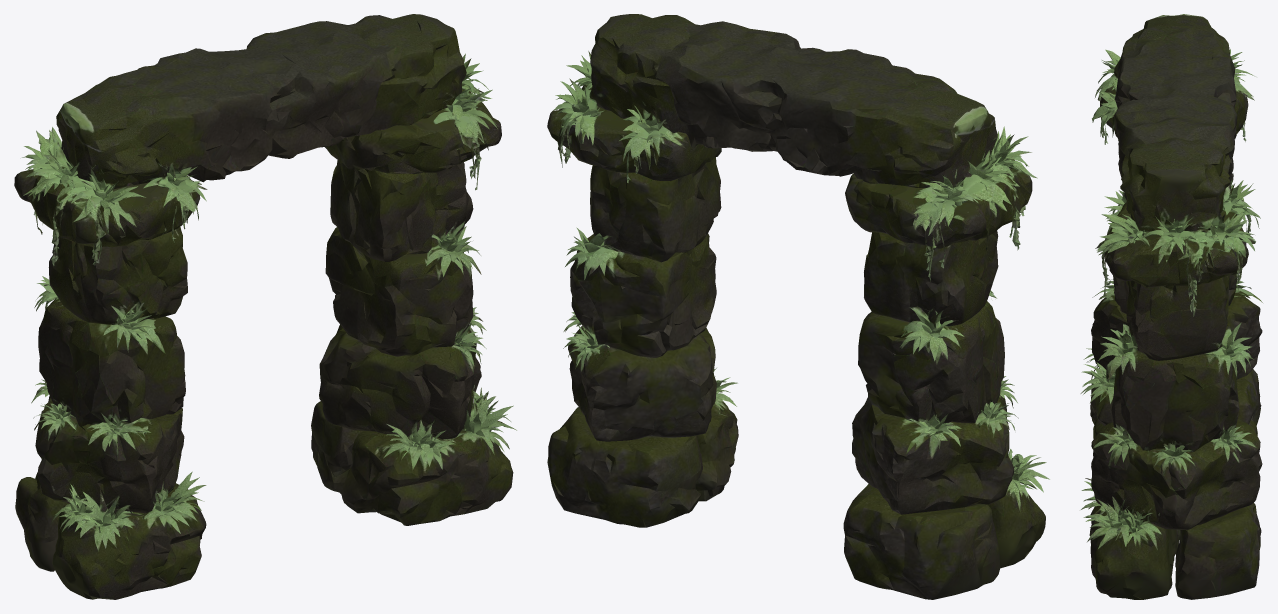
Rendered from sp_m_grotto.glb.
3 views of the same model, side by side, from view 1: azimuth 30°, elevation 25°; view 2: azimuth 150°, elevation 25°; view 3: azimuth 270°, elevation 25° (orthographic). The views are drawn at different scales.
Visible parts, largest first — view 1: Mesh_0; view 2: Mesh_0; view 3: Mesh_0.
Boxes of the visible parts, <box> form: Mesh_0: <box>14,14,516,599</box>; Mesh_0: <box>547,14,1049,599</box>; Mesh_0: <box>1080,14,1262,599</box>.
Size of the model in its own units: 1.89 by 1.86 by 0.7364.
Materials: 1 (1 with a texture image).
